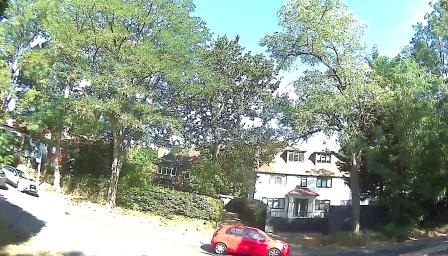Cars: (218, 223, 290, 255), (4, 164, 43, 200), (0, 164, 8, 196)
